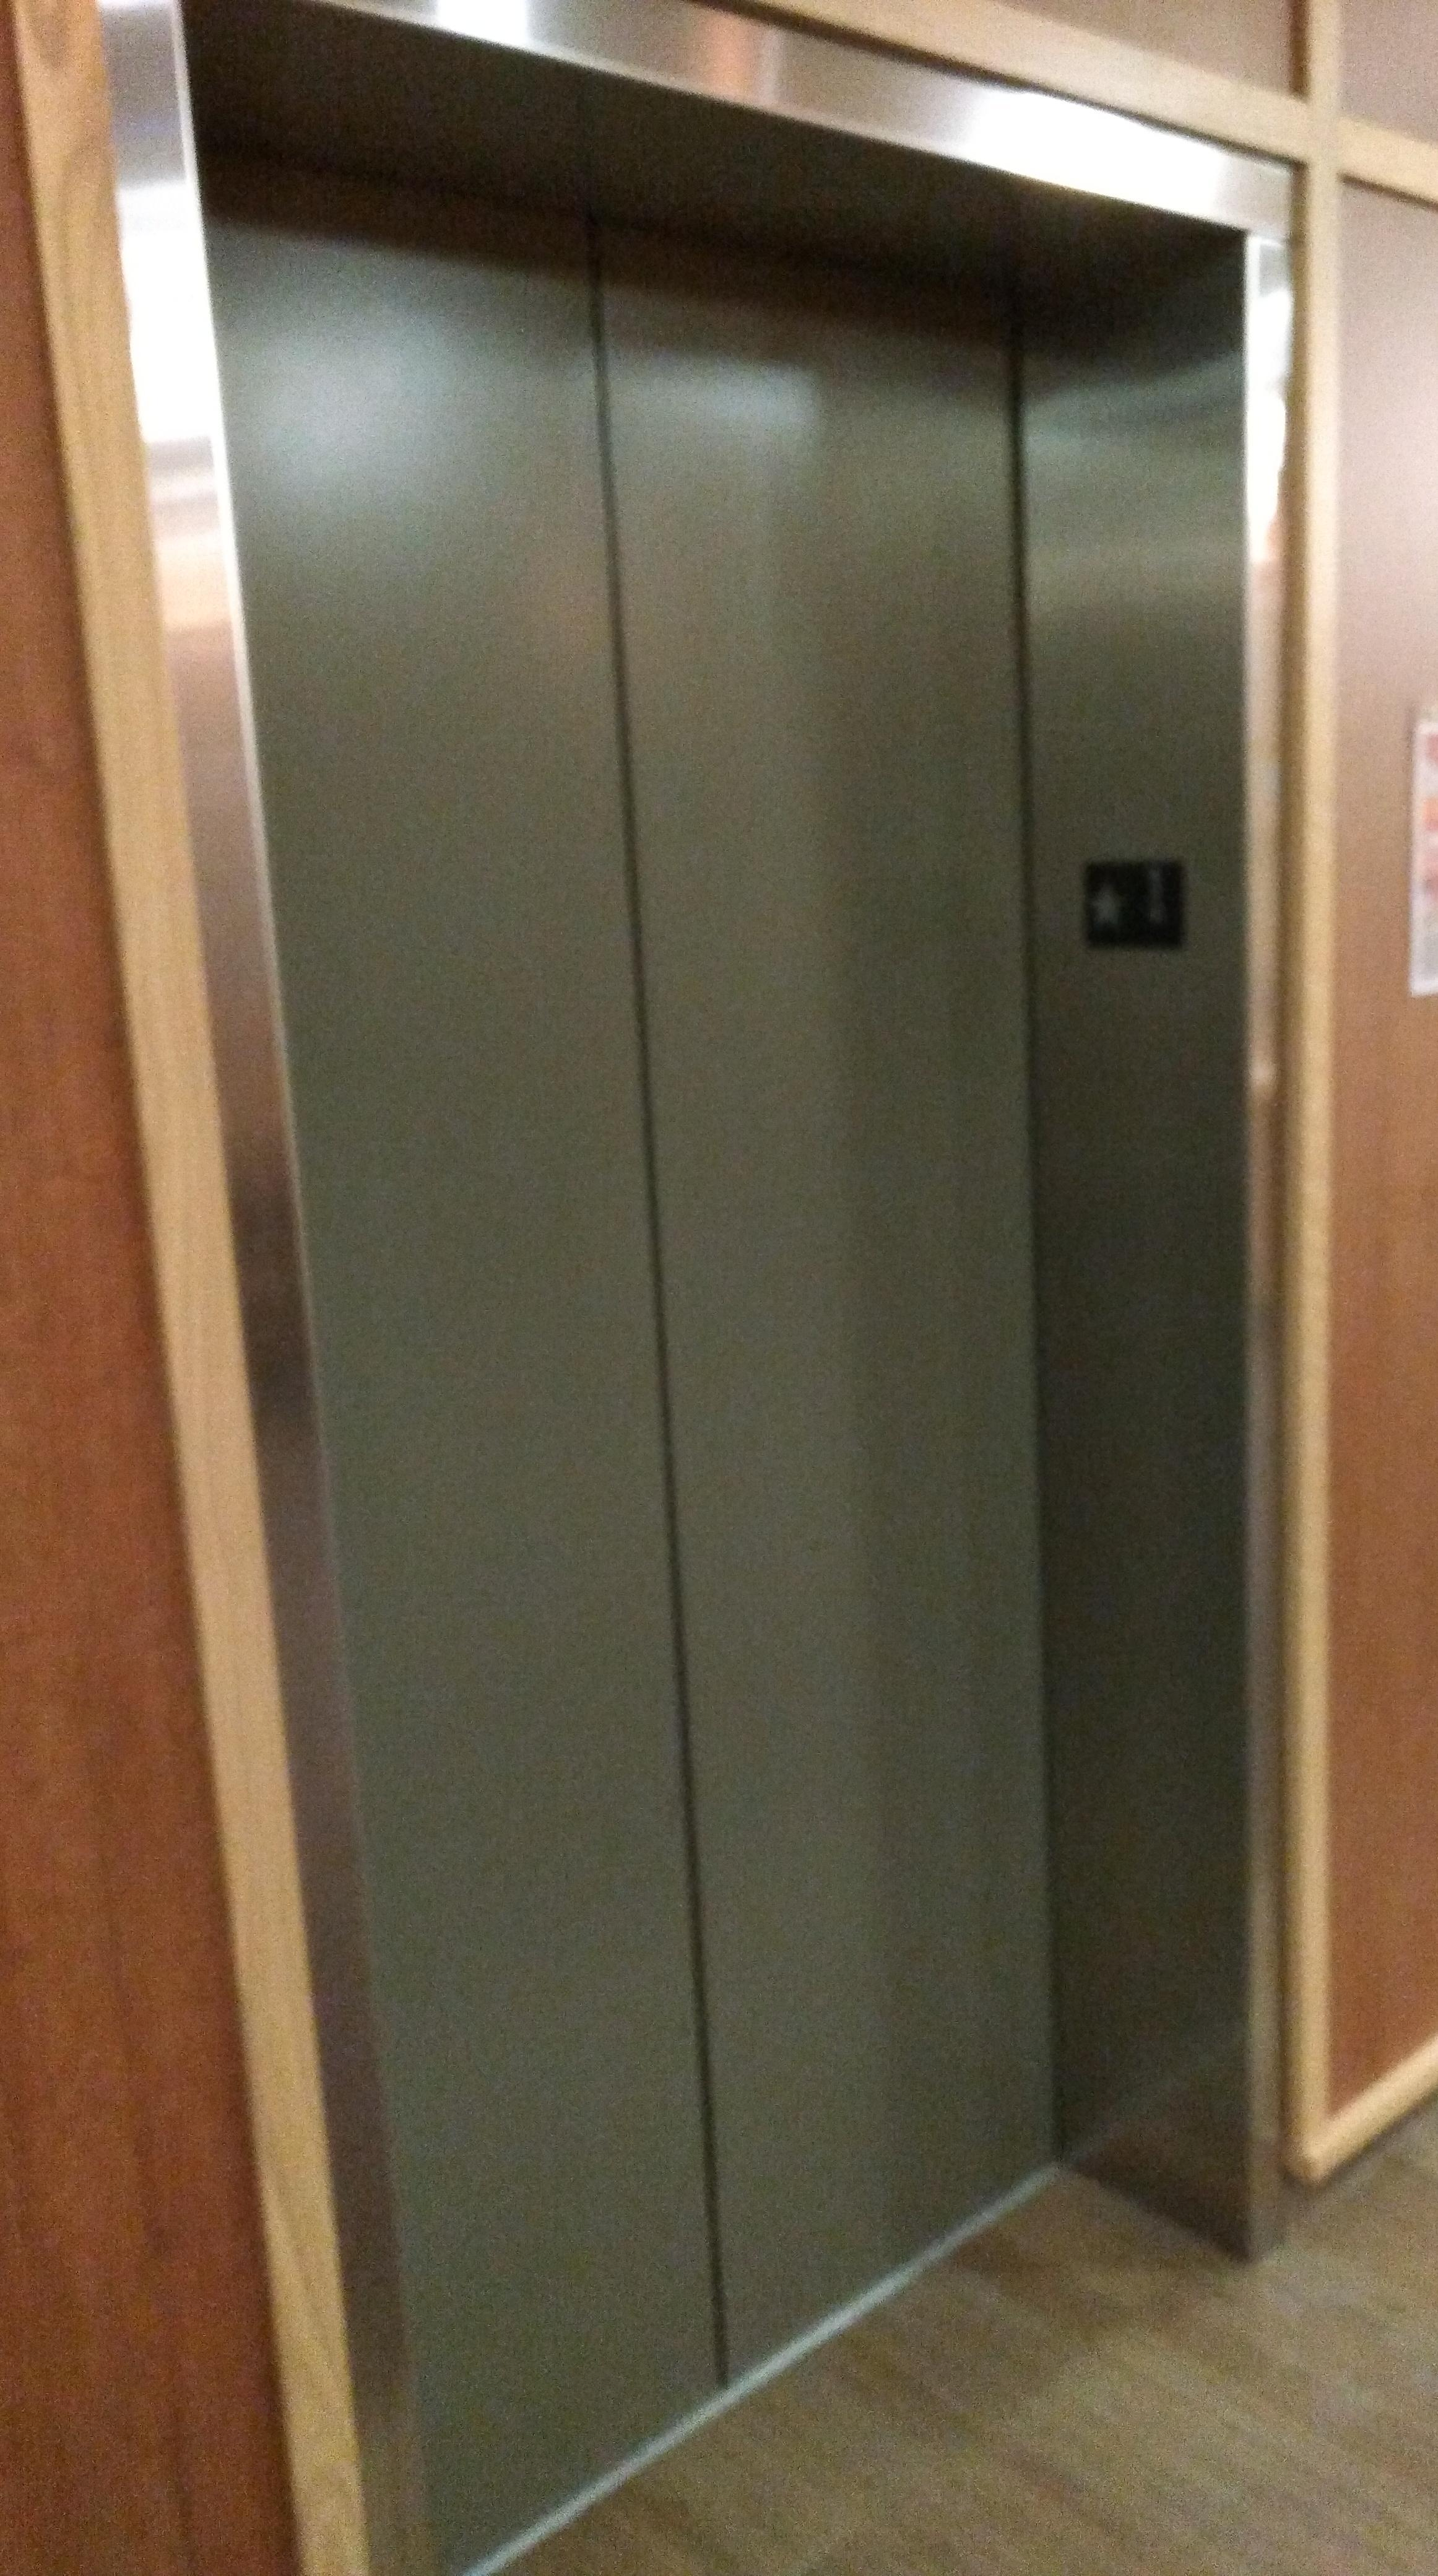door: (156, 0, 1358, 2539)
